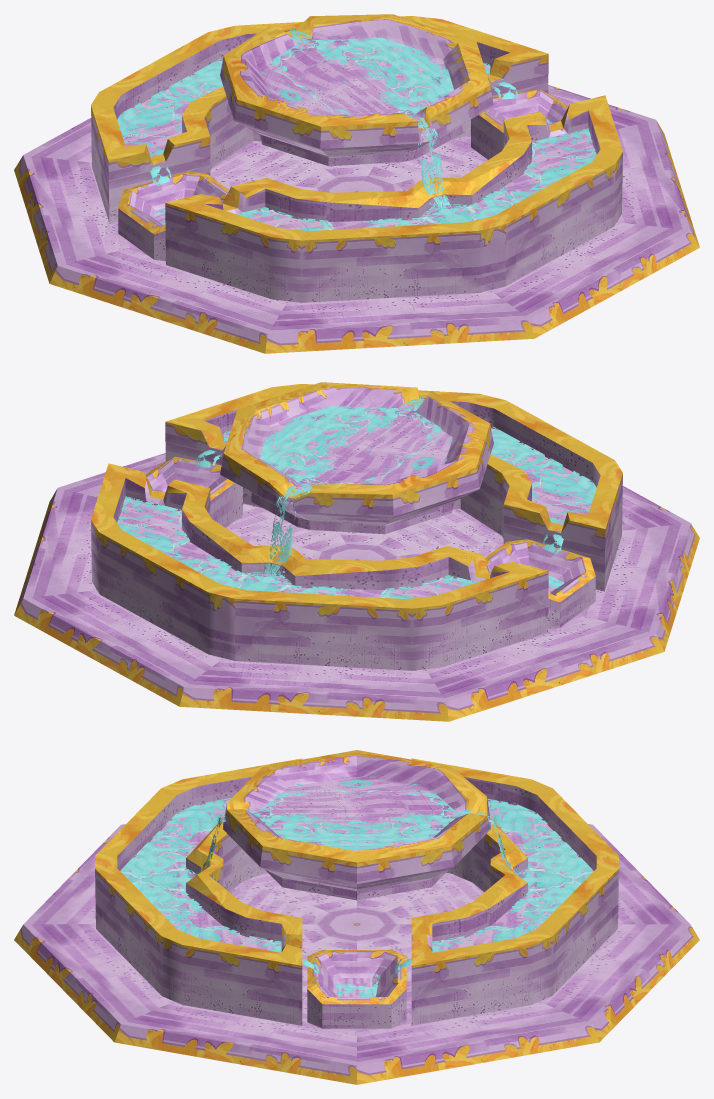
Rendered from str-fountain-01-art.glb.
3 renders of one model, top to bottom at view 1: azimuth 30°, elevation 25°; view 2: azimuth 150°, elevation 25°; view 3: azimuth 270°, elevation 25°, orthographic. The views are drawn at different scales.
Parts seen in each view (by area): view 1: Str_Fountain_01_Art; view 2: Str_Fountain_01_Art; view 3: Str_Fountain_01_Art.
Part boxes in pixels (bbox=[...]): Str_Fountain_01_Art: bbox=[14, 14, 699, 353]; Str_Fountain_01_Art: bbox=[14, 382, 699, 721]; Str_Fountain_01_Art: bbox=[14, 750, 699, 1084].
Size of what is drawn, in the model's own units: 6.73 by 1.48 by 6.73.
2 materials, 2 textured.
